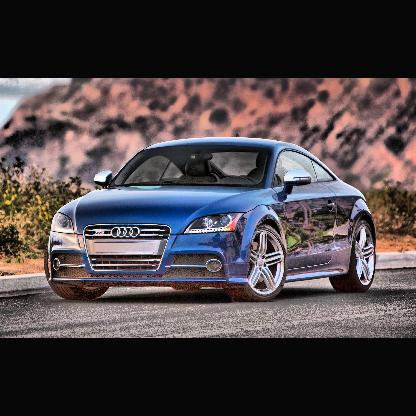Audi TTS Coupe 2012: (46, 134, 379, 302)
